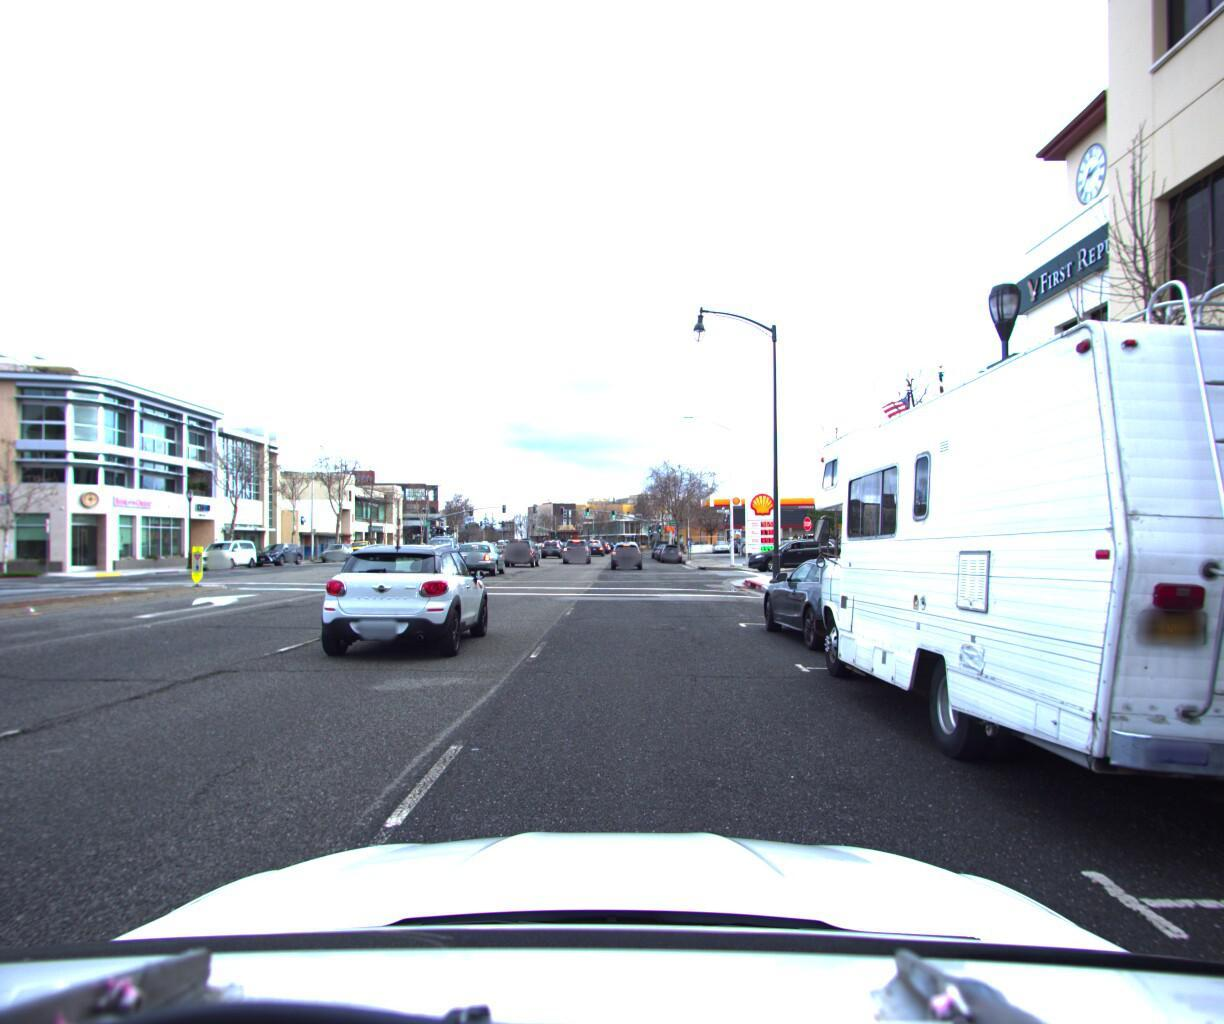car: (792, 209, 1224, 930), (315, 535, 499, 663), (756, 544, 953, 658), (720, 531, 827, 566), (193, 533, 260, 566), (454, 537, 513, 574), (248, 535, 307, 562), (418, 528, 461, 562), (501, 532, 539, 562), (611, 539, 642, 570), (343, 532, 380, 555), (317, 536, 357, 557), (561, 534, 589, 560), (657, 536, 681, 556), (542, 530, 565, 550), (589, 536, 607, 550)
